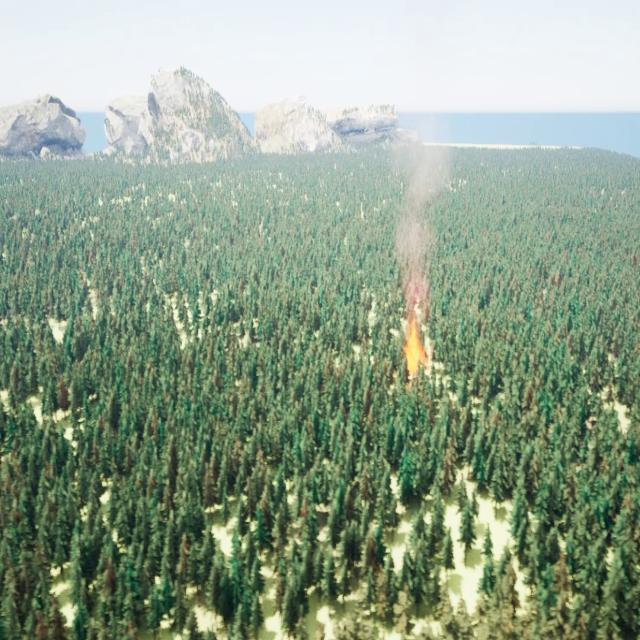fire: (402, 317, 431, 374)
smoke: (390, 118, 452, 310)
